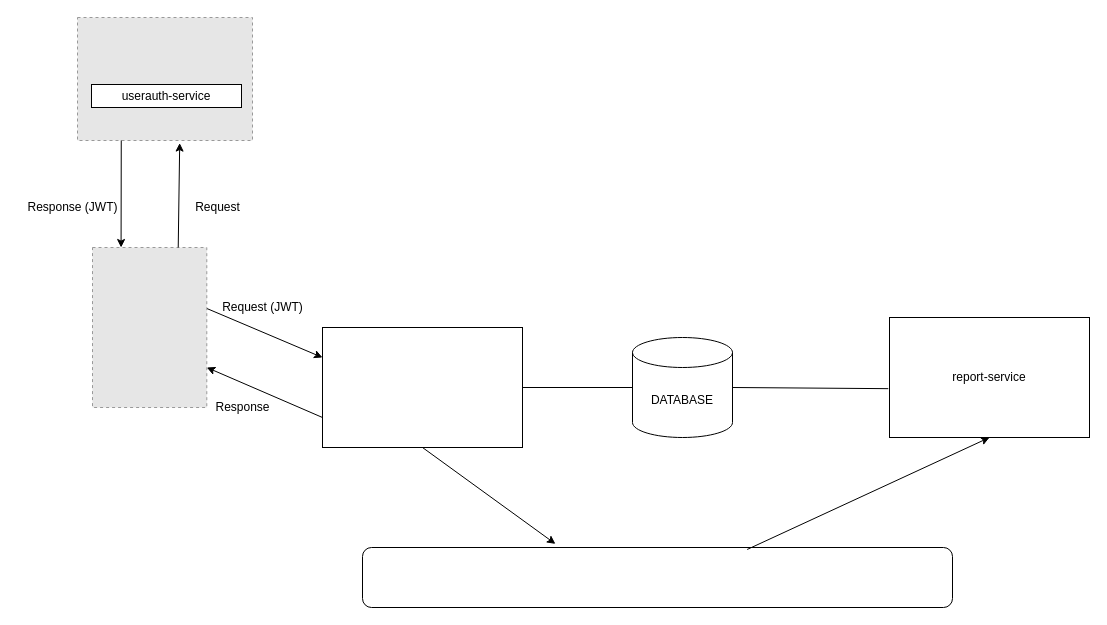
Some shapes in this 1107 by 625 pixel diagram are drawn without their labels. Grey dashed boxes stand in for pictures. The centre of each missing label's shape, as x and y in pixels:
advertisement-service: (422,387)
Message Broker (KAFKA): (657,577)
